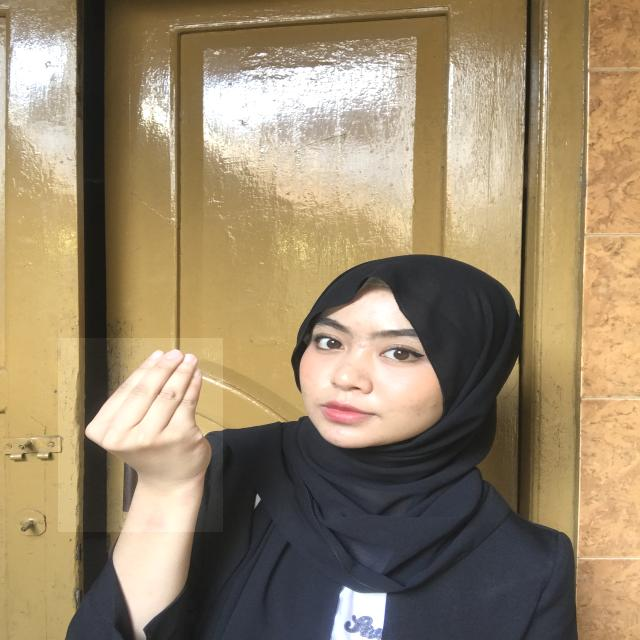kapan: (58, 338, 223, 532)
